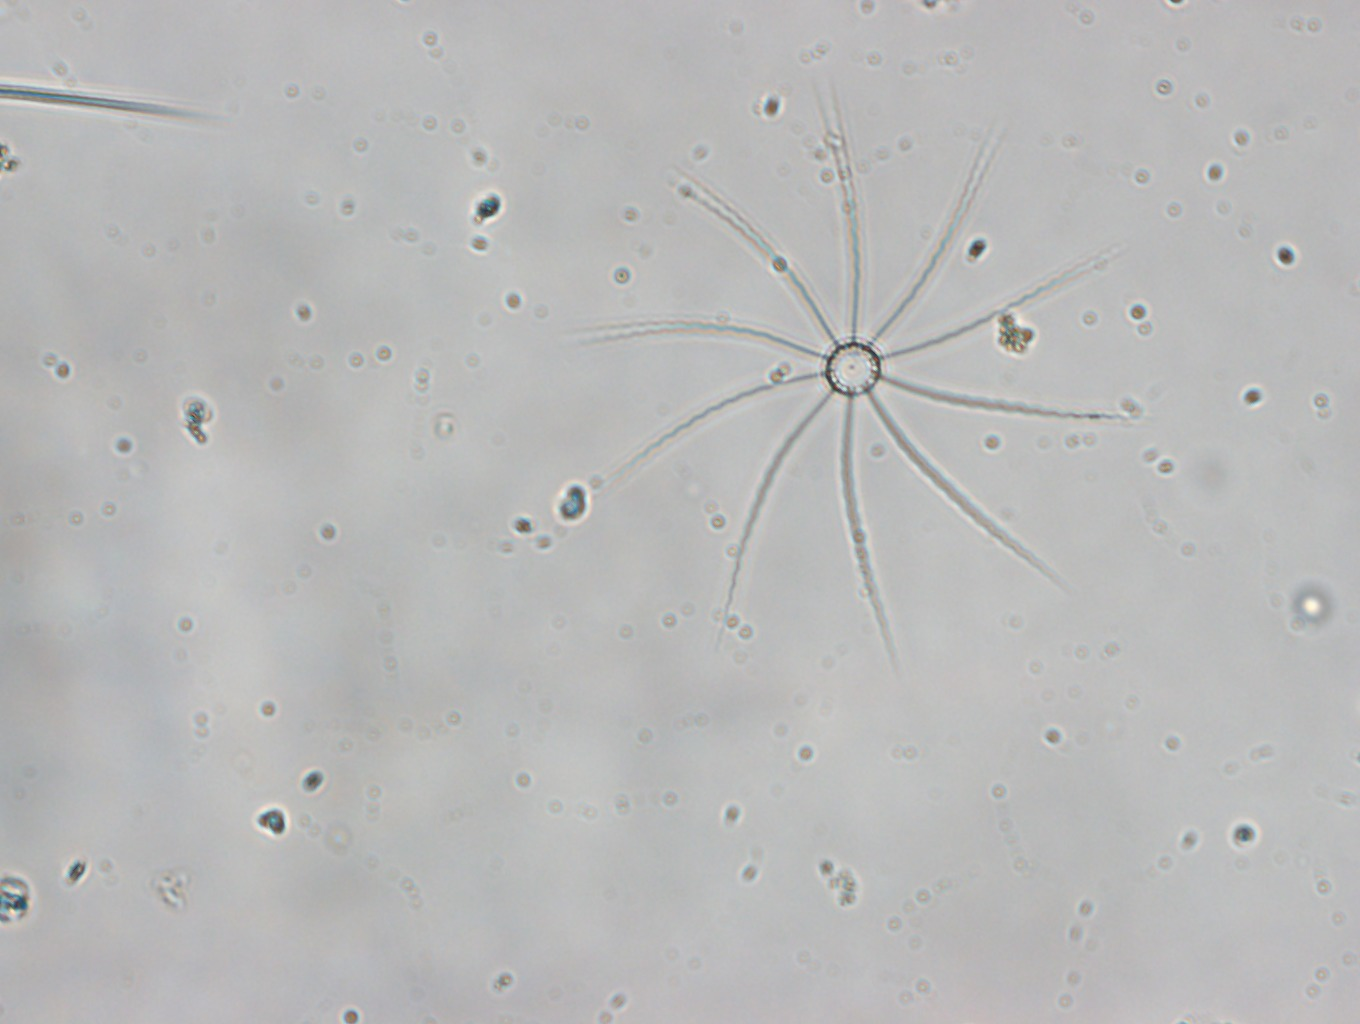bacteriastrum: (587, 72, 1135, 662)
